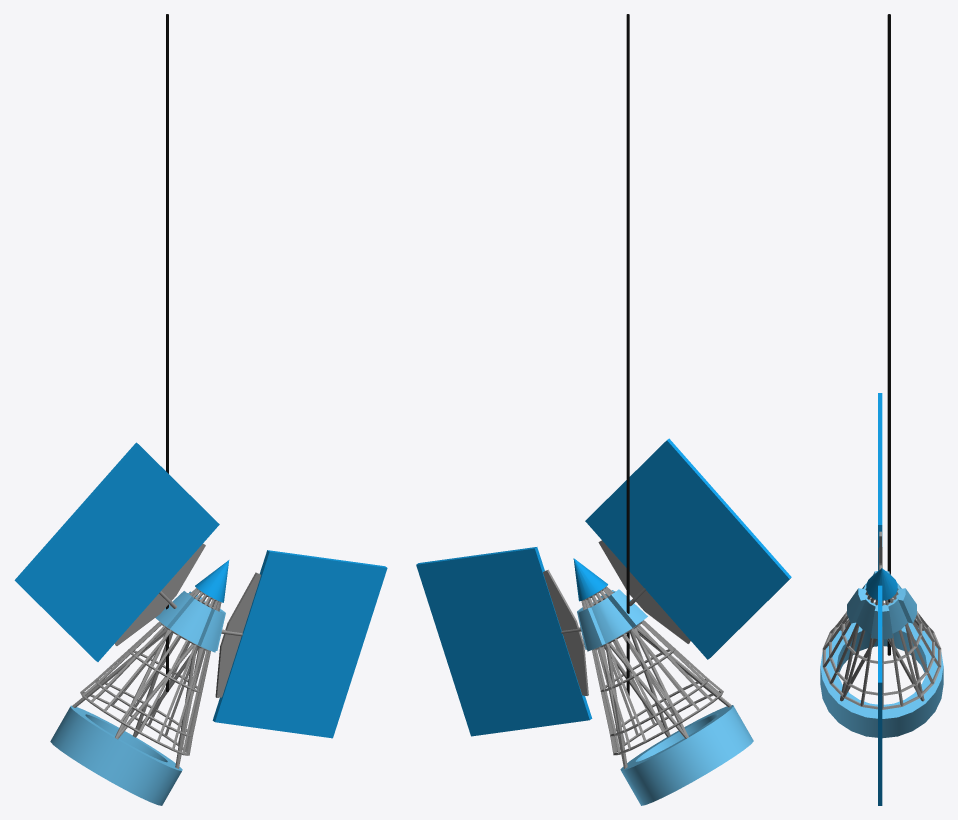
Rendered from Satellite.FBX.
3 views of the same model, side by side, from view 1: azimuth 30°, elevation 25°; view 2: azimuth 150°, elevation 25°; view 3: azimuth 270°, elevation 25° (orthographic). The views are drawn at different scales.
Visible parts, largest first — view 1: Rectangle001, Rectangle002, Cone001, Shape002, Line004; view 2: Rectangle001, Rectangle002, Cone001, Shape002, Line004; view 3: Cone001, Line004, Rectangle001, Shape002, Rectangle002.
Part boxes in pixels (left/top/right/bottom): Rectangle001: left=212, top=550, right=387, bottom=738; Rectangle002: left=14, top=442, right=219, bottom=661; Cone001: left=50, top=560, right=229, bottom=805; Shape002: left=72, top=628, right=201, bottom=768; Line004: left=166, top=14, right=168, bottom=691; Rectangle001: left=416, top=547, right=592, bottom=736; Rectangle002: left=585, top=438, right=791, bottom=659; Cone001: left=573, top=558, right=753, bottom=805; Shape002: left=602, top=627, right=731, bottom=768; Line004: left=626, top=14, right=629, bottom=695; Cone001: left=820, top=568, right=943, bottom=738; Line004: left=887, top=14, right=890, bottom=655; Rectangle001: left=878, top=585, right=882, bottom=805; Shape002: left=840, top=598, right=924, bottom=701; Rectangle002: left=878, top=393, right=882, bottom=570.
Bounding box in the file's own units: 133 × 265 × 40.44.
